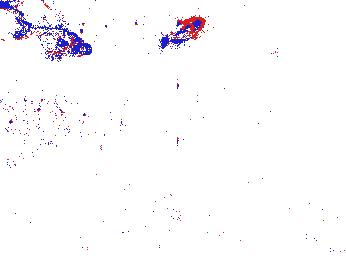X-ray fish: (14, 15, 94, 60), (25, 108, 90, 144)
red belly glassfish: (156, 15, 206, 49), (266, 45, 309, 63)
